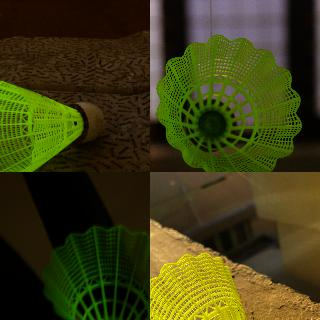shuttlecock: (156, 34, 302, 171), (42, 225, 149, 319), (0, 81, 104, 171), (150, 251, 280, 319)
